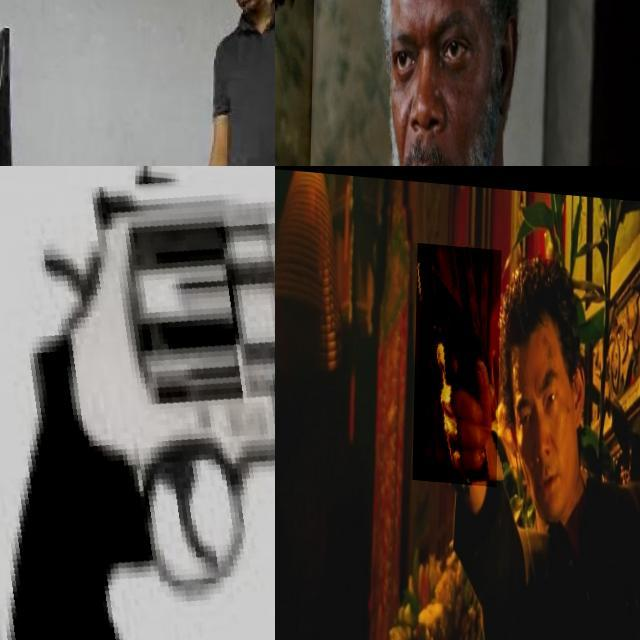gun-knife-thesis - v11 Yolov5 augmented: (0, 166, 275, 640), (414, 238, 502, 481), (275, 0, 343, 166)
